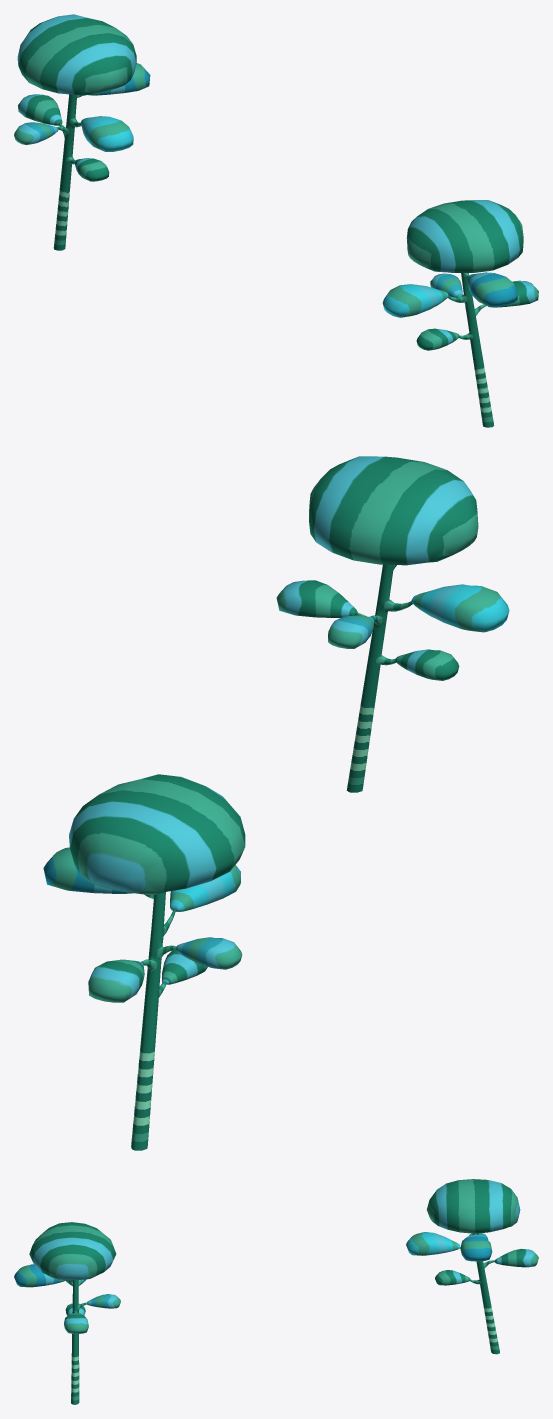
Rendered from treeH.fbx.
3 views of the same model, one above another, from view 1: azimuth 30°, elevation 25°; view 2: azimuth 150°, elevation 25°; view 3: azimuth 270°, elevation 25° (orthographic). The views are drawn at different scales.
Visible parts, largest first — view 1: treeH; view 2: treeH; view 3: treeH.
Boxes of the visible parts, x1=… form: treeH: x1=14, y1=14, x2=538, y2=427; treeH: x1=43, y1=456, x2=509, y2=1150; treeH: x1=14, y1=1179, x2=538, y2=1404.
Size of the model in its own units: 337 by 302 by 851.
